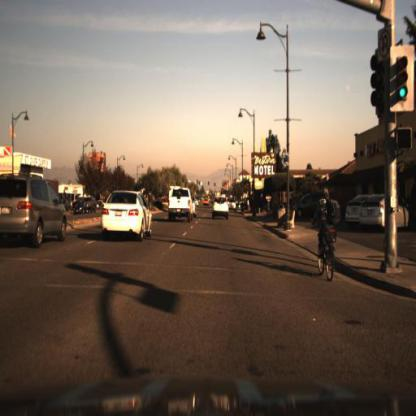biker: (313, 187, 339, 286)
car: (1, 171, 70, 246), (101, 187, 158, 243), (359, 193, 412, 233), (167, 184, 194, 223), (294, 192, 322, 221), (211, 192, 232, 221), (345, 197, 363, 230), (184, 192, 197, 222)
